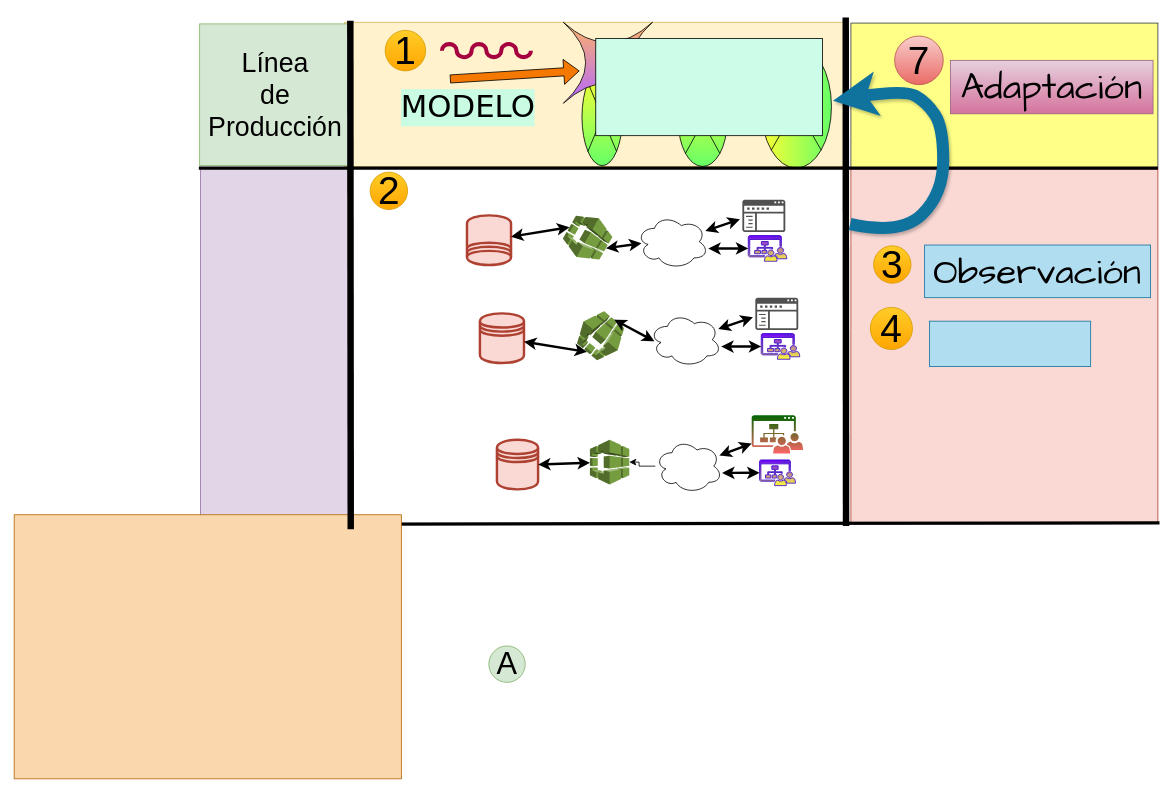
The diagram is 1176 pixels wide and 793 high, and some of its shapes have lost their labels. Each missing label, with the centre of its shape:
Generador de código fuente: point (709, 87)
Médición: point (1010, 343)
Versión: point (275, 345)
